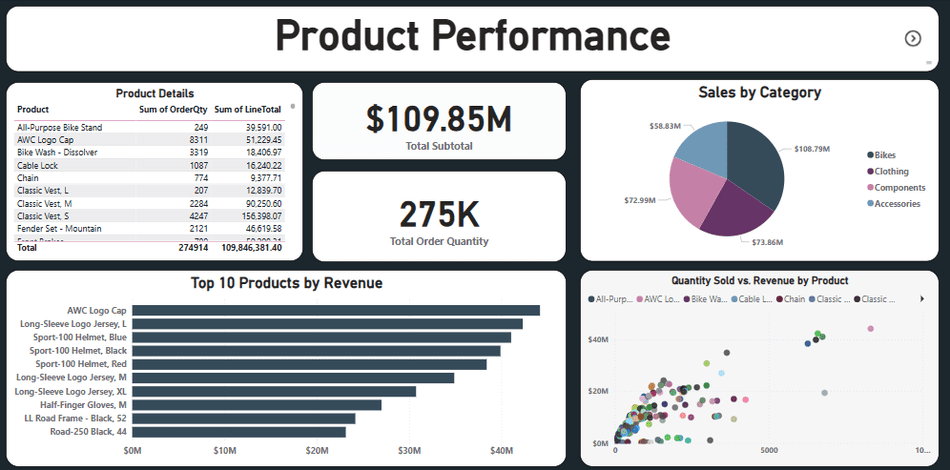

The page's visual inventory and layout, read from the dashboard file:
{"tool":"powerbi","page":{"name":"Product Performance","canvas":[1500,750],"ordinal":0},"visuals":[{"type":"textbox","title":"Product Performance","box":[13.4,11.7,1468.2,103.9],"z":0},{"type":"pieChart","title":"Sales by Category","fields":{"Category":["Product.Category"],"Y":["Measurres.Total Subtotal"]},"box":[916.1,127.4,564.5,287.1],"z":1000},{"type":"clusteredBarChart","title":"Top 10 Products by Revenue","fields":{"Category":["Product.Product"],"Y":["Measurres.Total Subtotal"]},"box":[12.9,427.4,882.3,309.7],"z":2000},{"type":"tableEx","title":"Product Details","fields":{"Values":["Product.Product","Sum(Fact Order.OrderQty)","Sum(Fact Order.LineTotal)"]},"box":[12.9,132.3,467.7,282.3],"z":3000},{"type":"scatterChart","title":"Quantity Sold vs. Revenue by Product","fields":{"X":["Sum(Fact Order.OrderQty)"],"Y":["Measurres.Total Subtotal"],"Series":["Product.Product"]},"box":[916.1,427.4,564.5,309.7],"z":4000},{"type":"card","fields":{"Values":["Measurres.Total Subtotal"]},"box":[495.2,132.3,400,122.6],"z":5000},{"type":"card","title":"Total Order Quantity","fields":{"Values":["Sum(Fact Order.OrderQty)"]},"box":[495.2,271,400,143.5],"z":6000},{"type":"actionButton","box":[1421.2,43.6,40,40.2],"z":7000}]}

Visuals, with their boxes in screenshot pixels (x1, y1, x2, y2), scaled from the page's 1500x750 canvas onto the 950x470 screenshot:
"Product Performance" textbox: <region>8, 7, 938, 72</region>
"Sales by Category" pieChart: <region>580, 80, 938, 260</region>
"Top 10 Products by Revenue" clusteredBarChart: <region>8, 268, 567, 462</region>
"Product Details" tableEx: <region>8, 83, 304, 260</region>
"Quantity Sold vs. Revenue by Product" scatterChart: <region>580, 268, 938, 462</region>
card - Measurres.Total Subtotal: <region>314, 83, 567, 160</region>
"Total Order Quantity" card: <region>314, 170, 567, 260</region>
actionButton: <region>900, 27, 925, 53</region>
